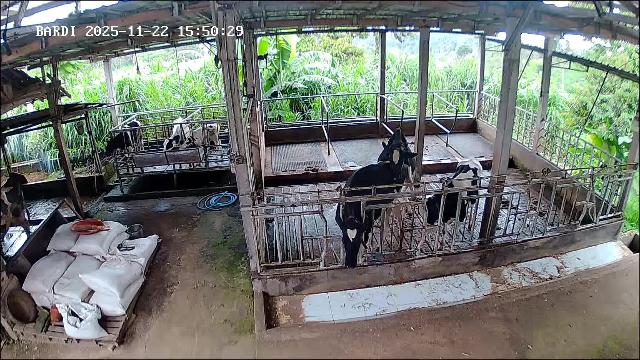mounting: (378, 131, 417, 214)
